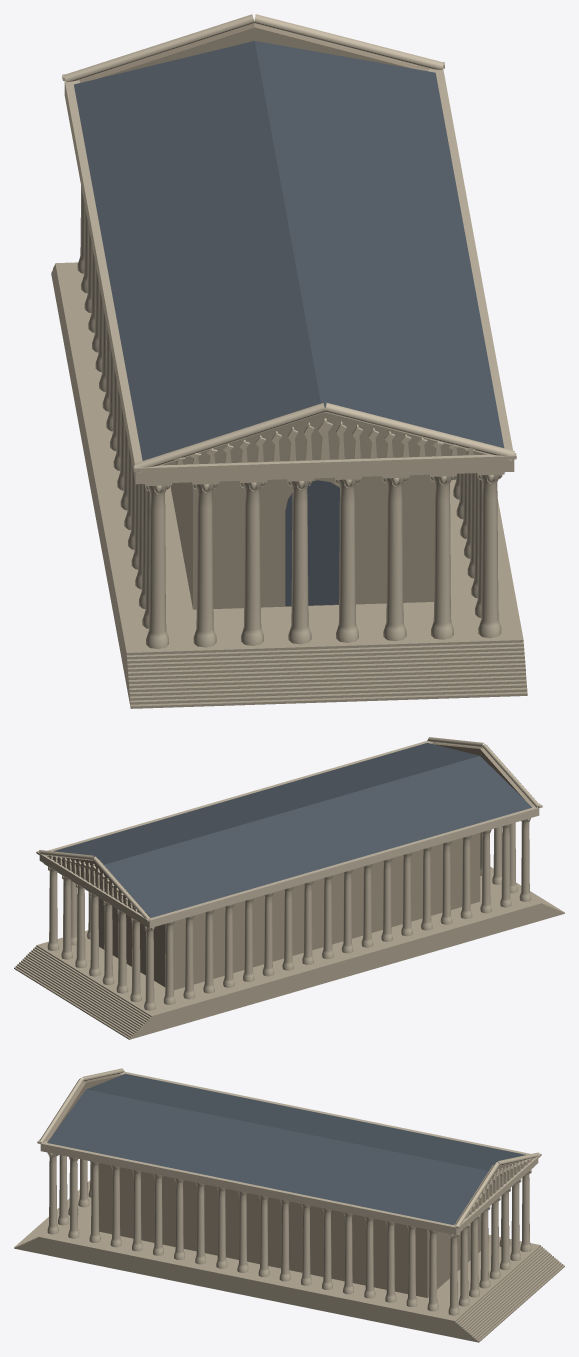
The model's file is paris-madeleine-far.glb.
The picture shows the model from 3 angles, top to bottom: view 1: azimuth 30°, elevation 25°; view 2: azimuth 150°, elevation 25°; view 3: azimuth 270°, elevation 25°; orthographic projection. The views are drawn at different scales.
Parts seen in each view (by area): view 1: paris-madeleine-0-roof, paris-madeleine-0-stone, paris-madeleine-0-steps, paris-madeleine-0-shade; view 2: paris-madeleine-0-roof, paris-madeleine-0-stone, paris-madeleine-0-steps, paris-madeleine-0-shade; view 3: paris-madeleine-0-roof, paris-madeleine-0-stone, paris-madeleine-0-steps, paris-madeleine-0-shade.
Boxes of the visible parts, x1=… form: paris-madeleine-0-roof: x1=74, y1=41, x2=504, y2=606; paris-madeleine-0-stone: x1=62, y1=14, x2=516, y2=648; paris-madeleine-0-steps: x1=51, y1=262, x2=527, y2=708; paris-madeleine-0-shade: x1=79, y1=23, x2=487, y2=609; paris-madeleine-0-roof: x1=53, y1=743, x2=531, y2=917; paris-madeleine-0-stone: x1=36, y1=737, x2=542, y2=1010; paris-madeleine-0-steps: x1=14, y1=866, x2=564, y2=1039; paris-madeleine-0-shade: x1=47, y1=743, x2=533, y2=990; paris-madeleine-0-roof: x1=47, y1=1073, x2=525, y2=1224; paris-madeleine-0-stone: x1=37, y1=1068, x2=541, y2=1315; paris-madeleine-0-steps: x1=14, y1=1180, x2=564, y2=1342; paris-madeleine-0-shade: x1=45, y1=1074, x2=532, y2=1297.
Size of the model in its own units: 86.87 by 32.97 by 119.
